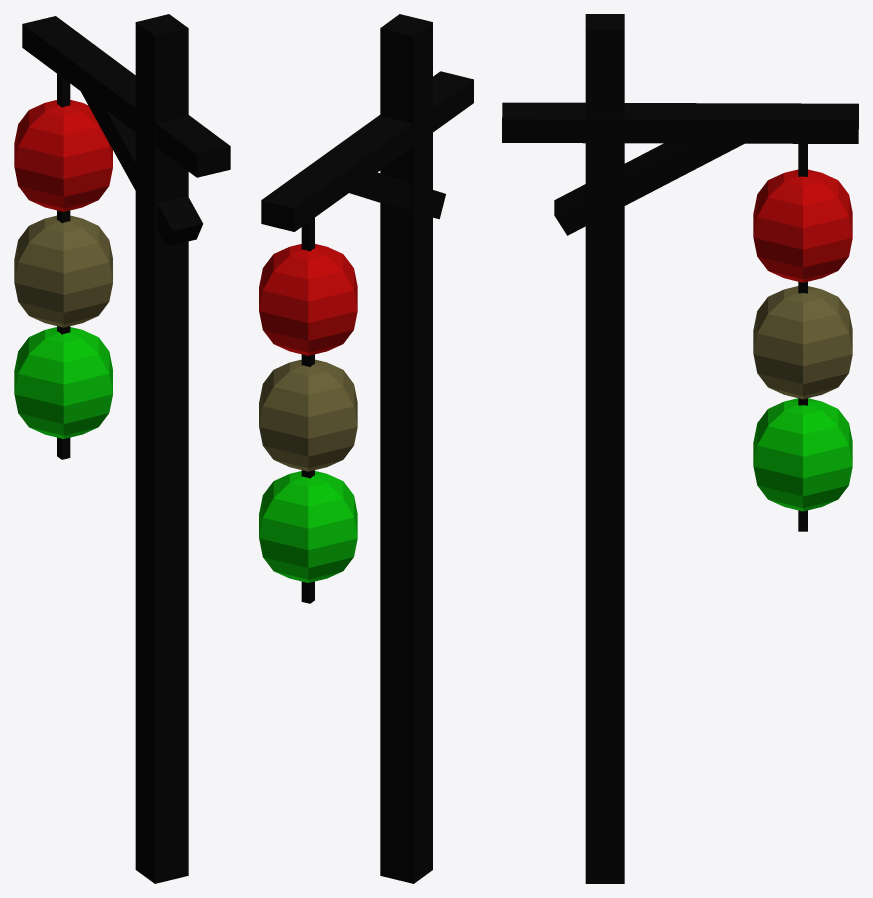
Rendered from TEST_LAMP.fbx.
3 renders of one model, left to right at view 1: azimuth 30°, elevation 25°; view 2: azimuth 150°, elevation 25°; view 3: azimuth 270°, elevation 25°, orthographic.
Parts seen in each view (by area): view 1: teST_LAMP; view 2: teST_LAMP; view 3: teST_LAMP.
Boxes of the visible parts, <box> form: teST_LAMP: <box>14,14,230,883</box>; teST_LAMP: <box>259,14,473,883</box>; teST_LAMP: <box>502,14,858,883</box>.
Size of the model in its own units: 0.4264 by 3.5 by 1.33.
